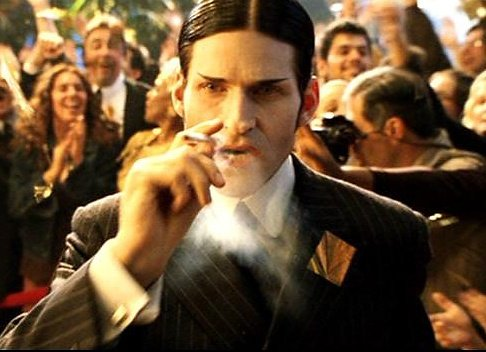cigarette: (180, 125, 216, 149)
